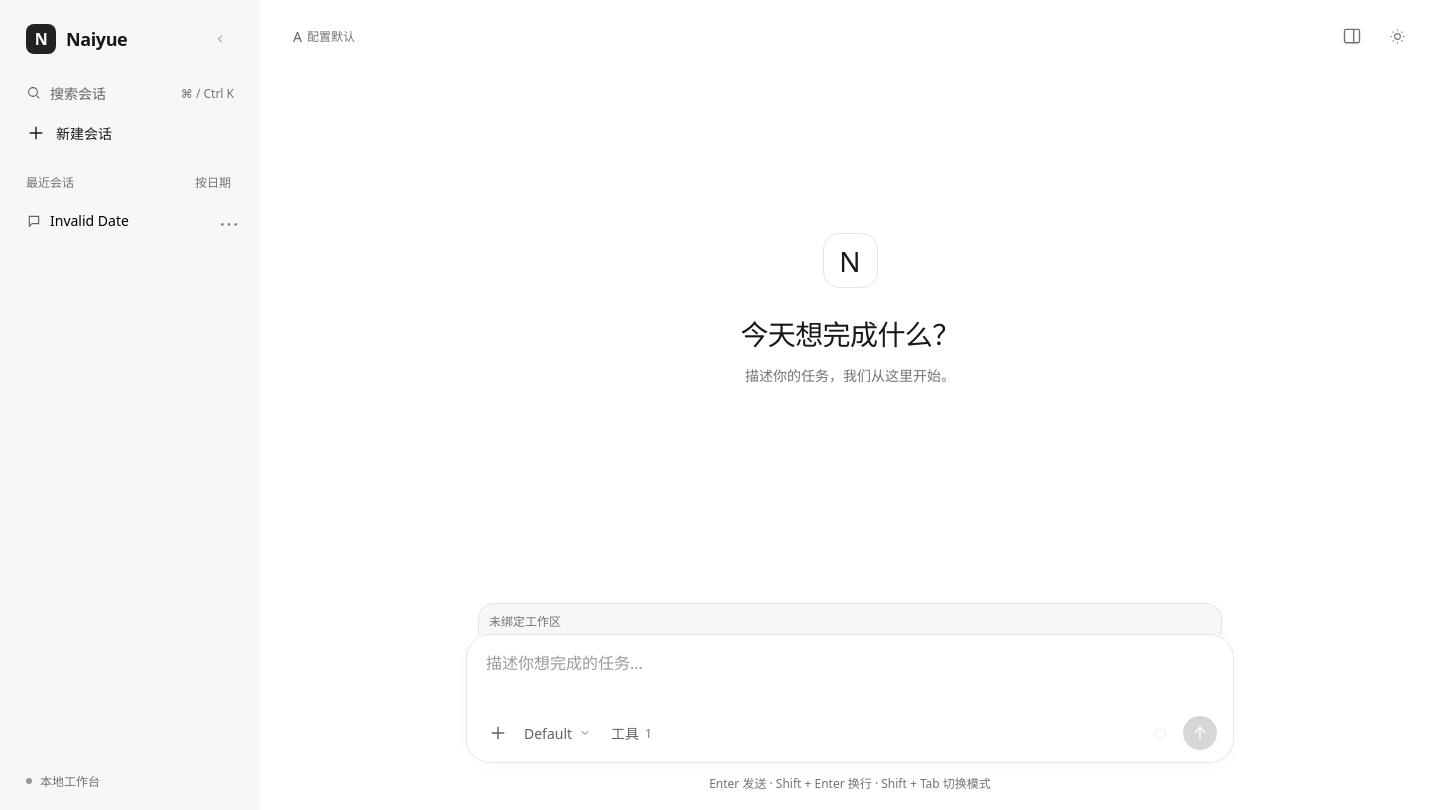
selects the registered tools for the current main agent and preserves a failed selection
Step 1. Click the button "Invalid Date" → [130, 220], box x1=14 y1=202 x2=246 y2=239
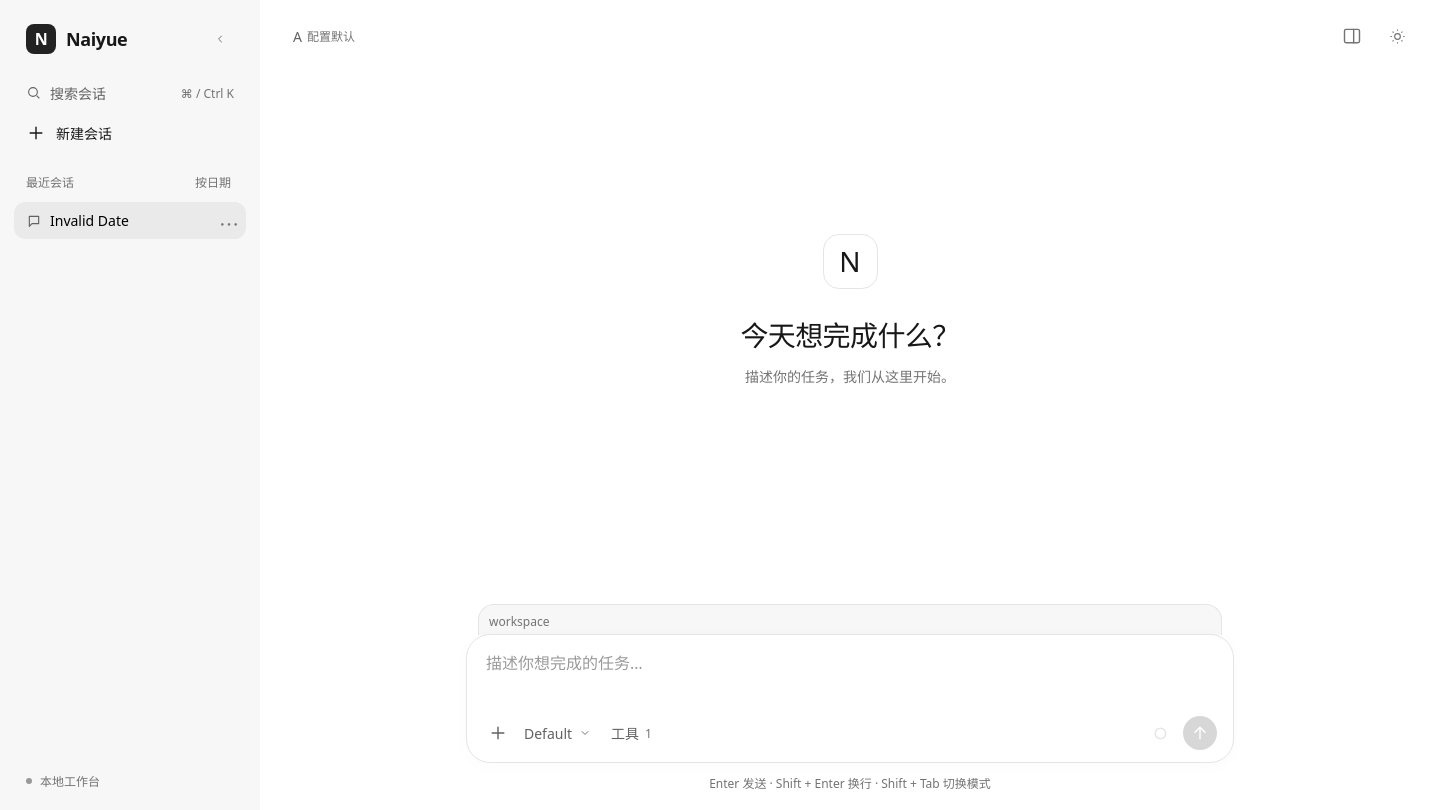
Step 2. Click the button "工具 1" → [632, 733], box x1=603 y1=716 x2=660 y2=750
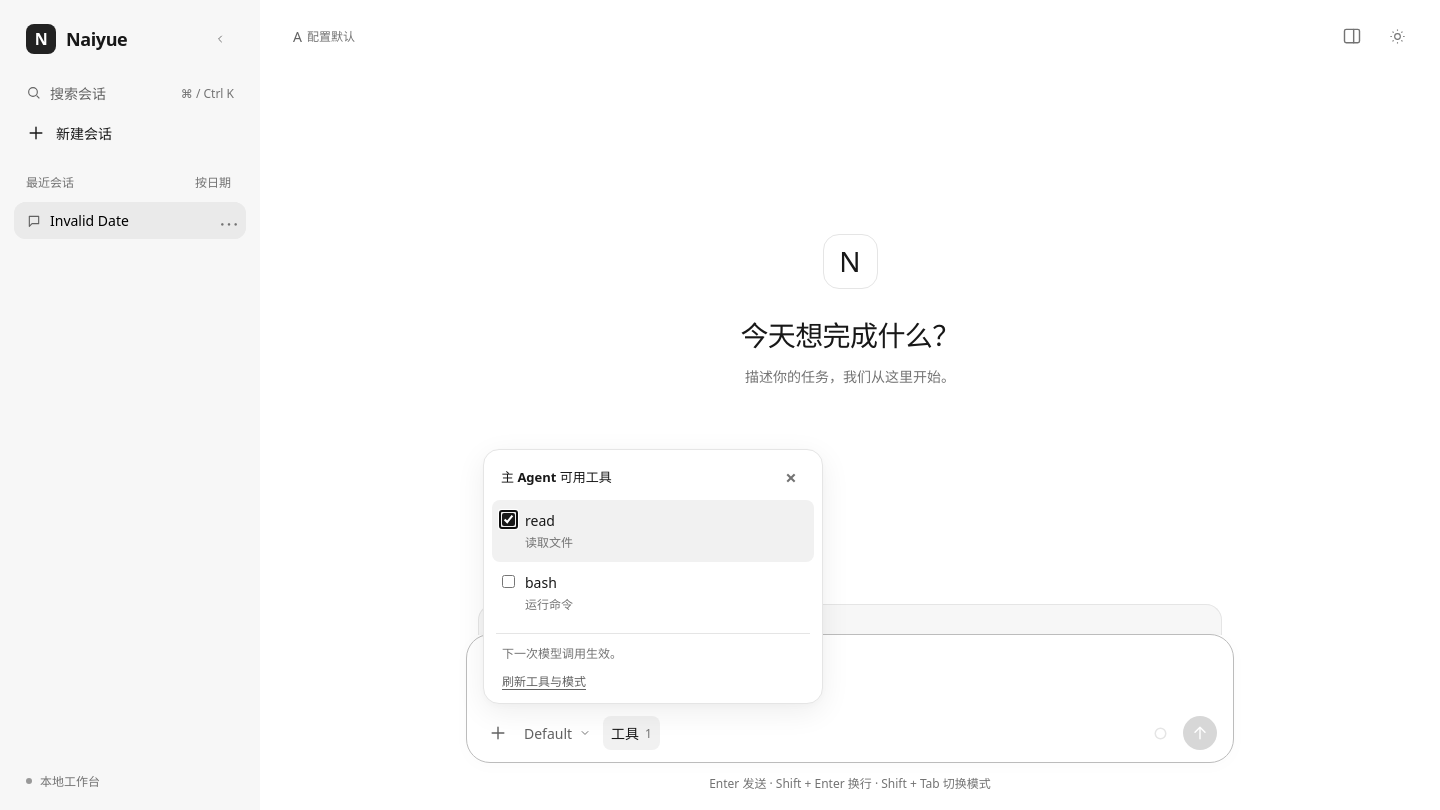
Result: the text "下一次模型调用生效。" is shown at x1=496 y1=633 x2=810 y2=667
Step 3. Click the checkbox labelled "bash 运行命令" → [508, 582], box x1=502 y1=575 x2=515 y2=588
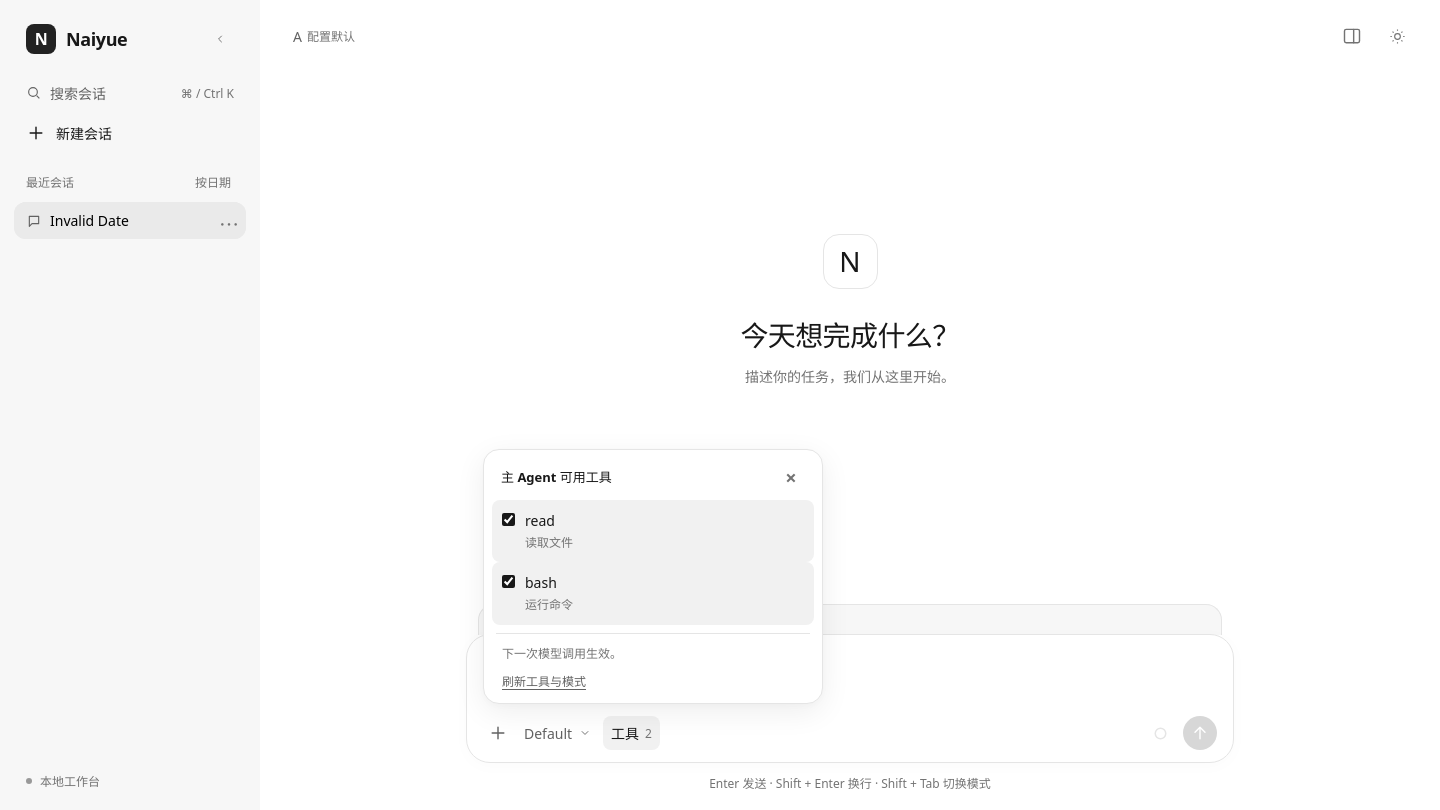
Result: the checkbox labelled "bash 运行命令" is checked at x1=502 y1=575 x2=515 y2=588
Step 4. Click the checkbox labelled "read 读取文件" → [508, 519], box x1=502 y1=513 x2=515 y2=526
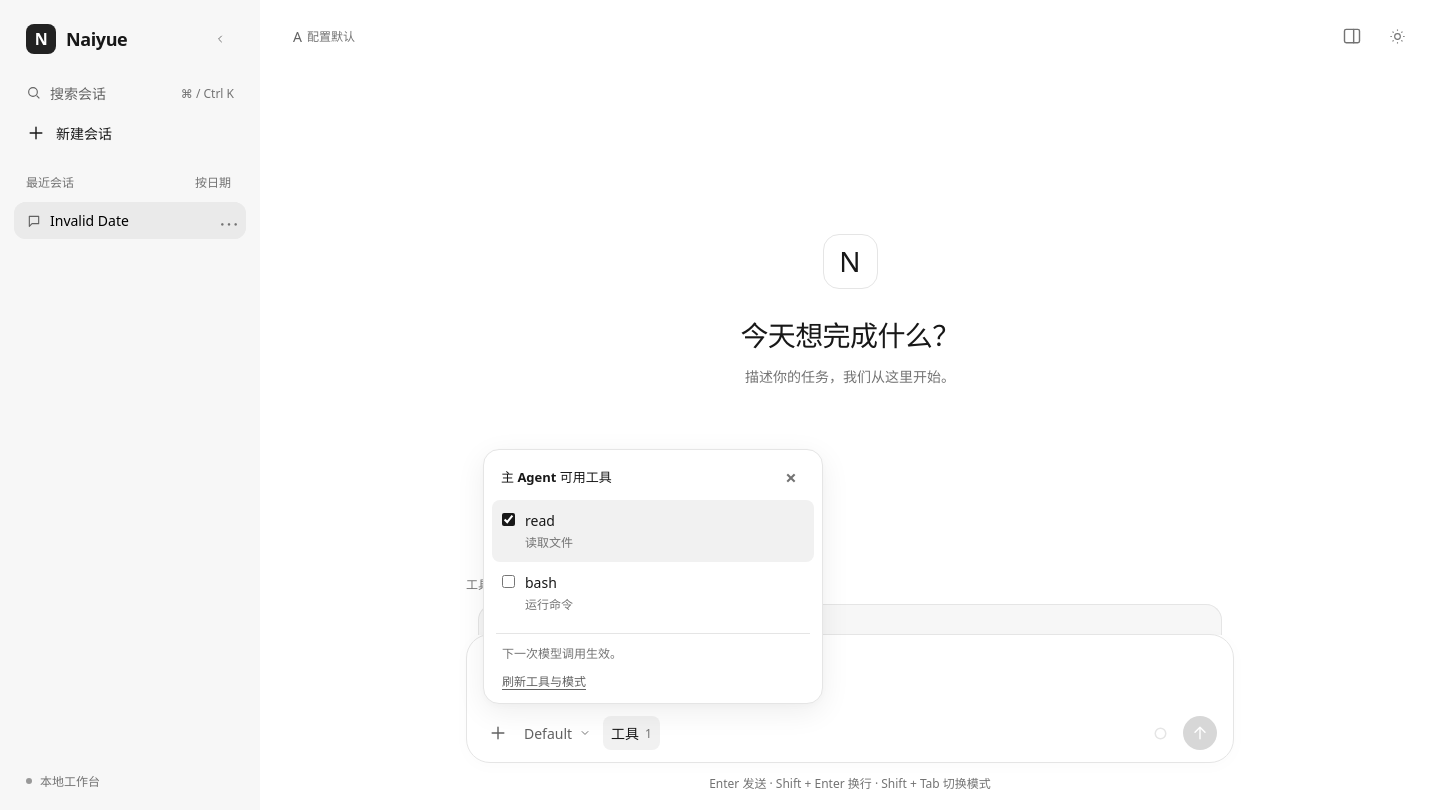
Result: the checkbox labelled "read 读取文件" is checked at x1=502 y1=513 x2=515 y2=526
Result: the text "工具选择无效，请刷新可用工具后重试。" is shown at x1=466 y1=575 x2=682 y2=593
